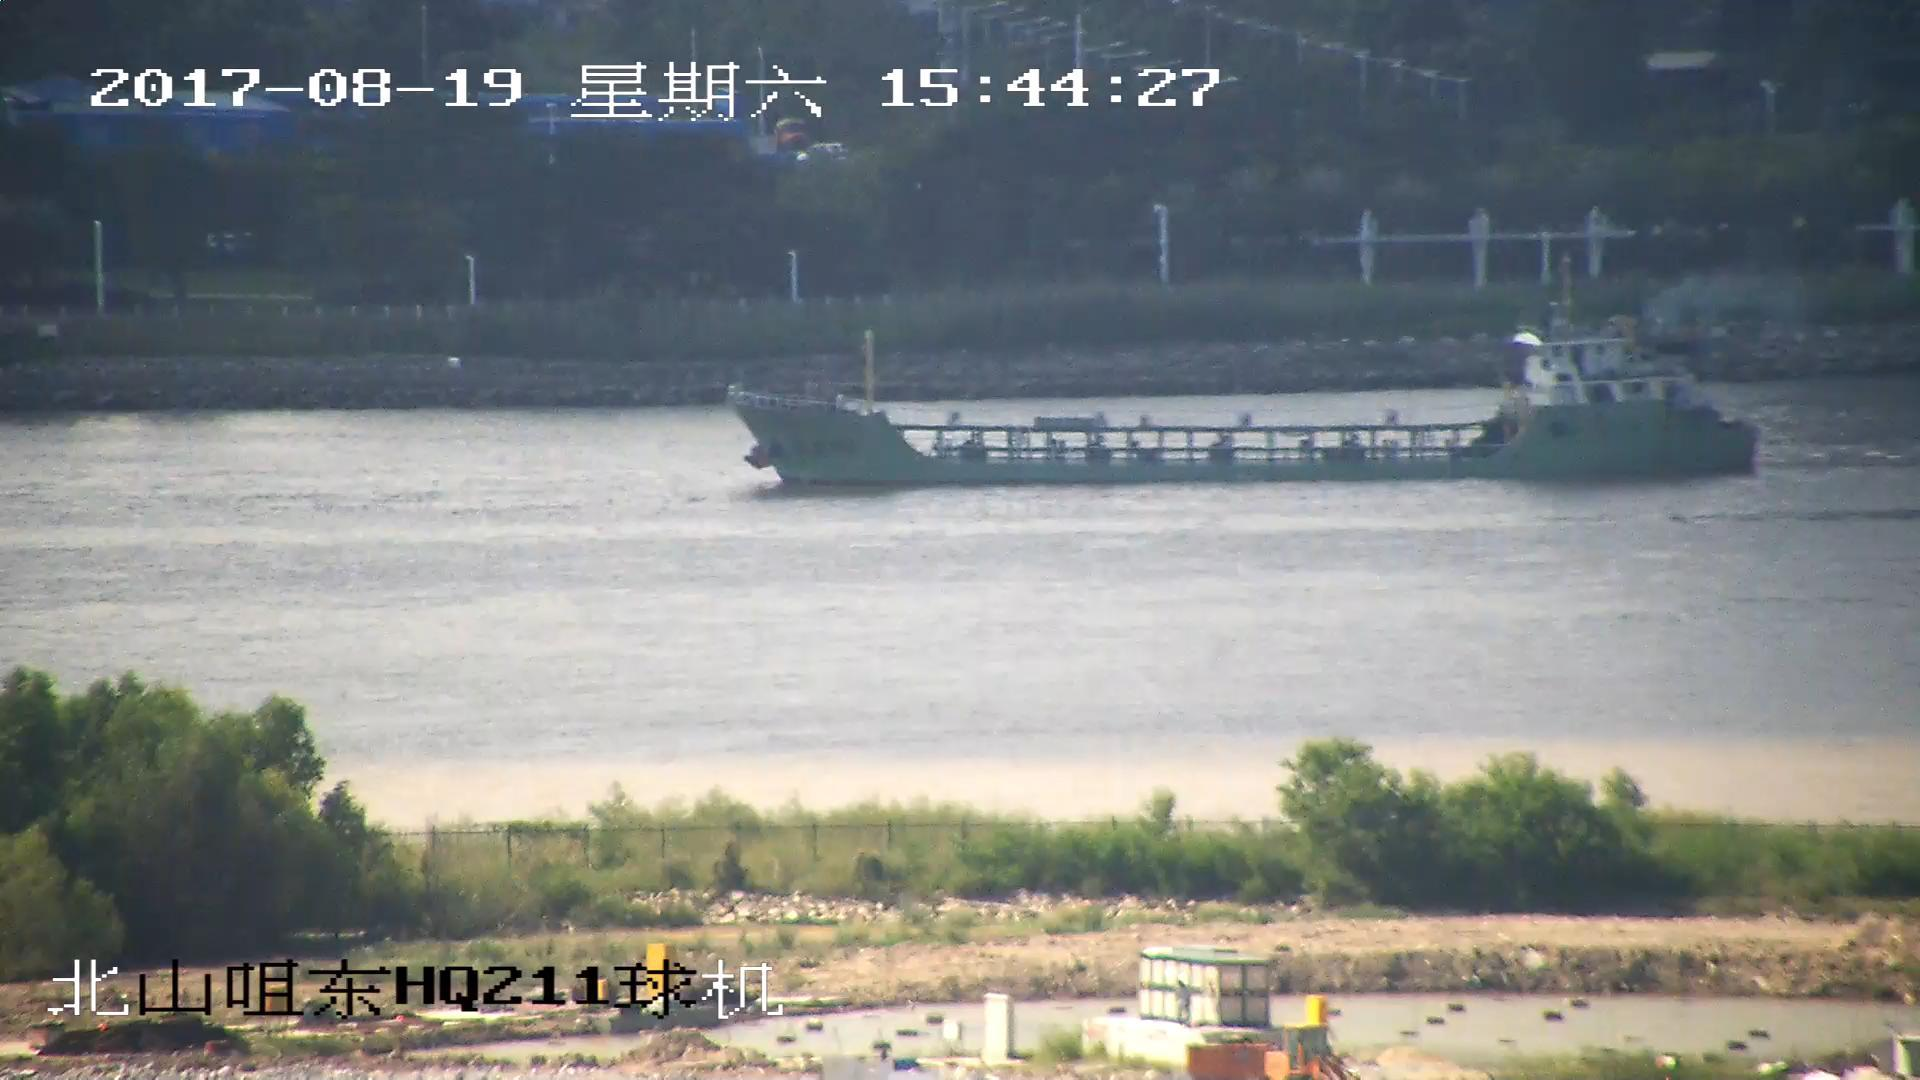Ship: (728, 286, 1756, 487)
